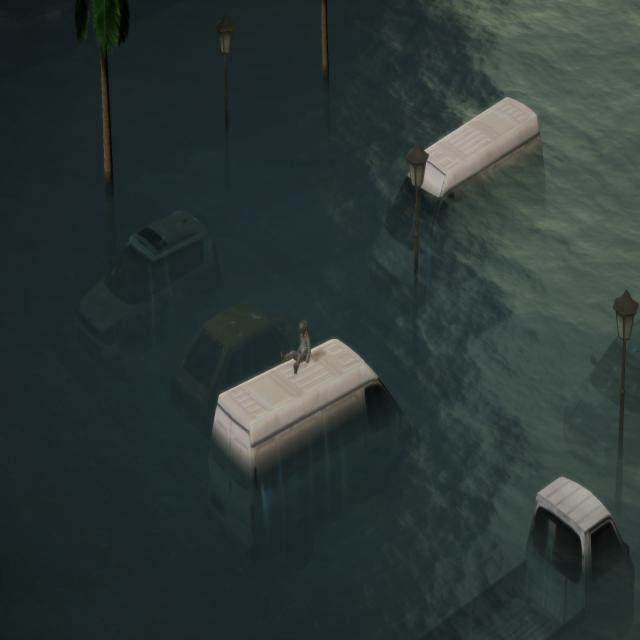Human: (277, 314, 318, 376)
